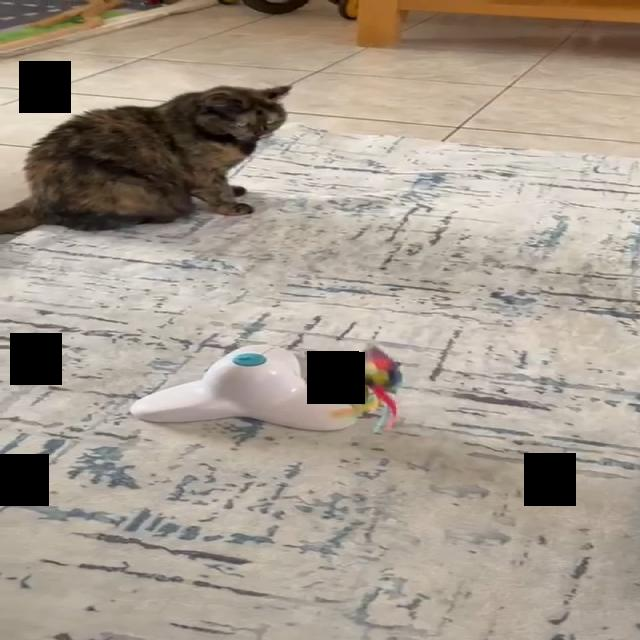authorized: (0, 83, 292, 235)
